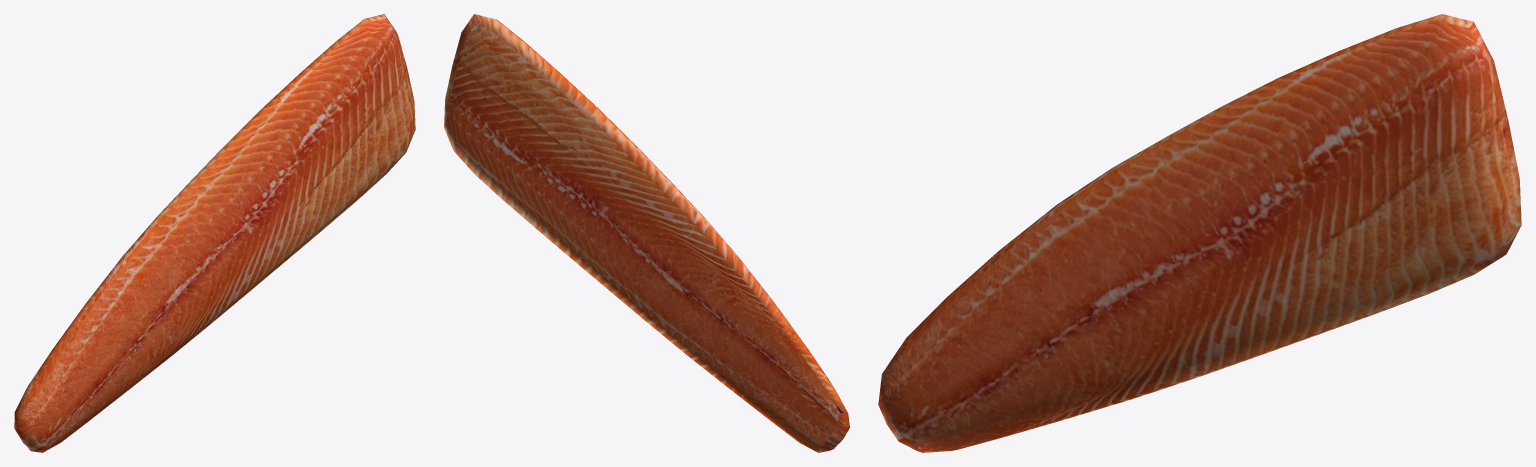
The model's file is salmon_fish.glb.
The picture shows the model from 3 angles, left to right: view 1: azimuth 30°, elevation 25°; view 2: azimuth 150°, elevation 25°; view 3: azimuth 330°, elevation 25°; orthographic projection. The views are drawn at different scales.
Visible parts, largest first — view 1: Plane; view 2: Plane; view 3: Plane.
Part boxes in pixels (x1,y1,x2,y2): Plane: [14, 14, 415, 452]; Plane: [444, 14, 849, 452]; Plane: [878, 14, 1521, 452].
Size of the model in its own units: 4.08 by 3.44 by 0.2246.
Materials: 1 (1 with a texture image).
